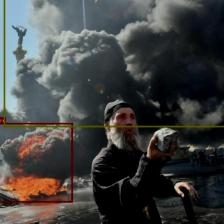fire: (0, 122, 72, 202)
smoke: (3, 0, 224, 127)
